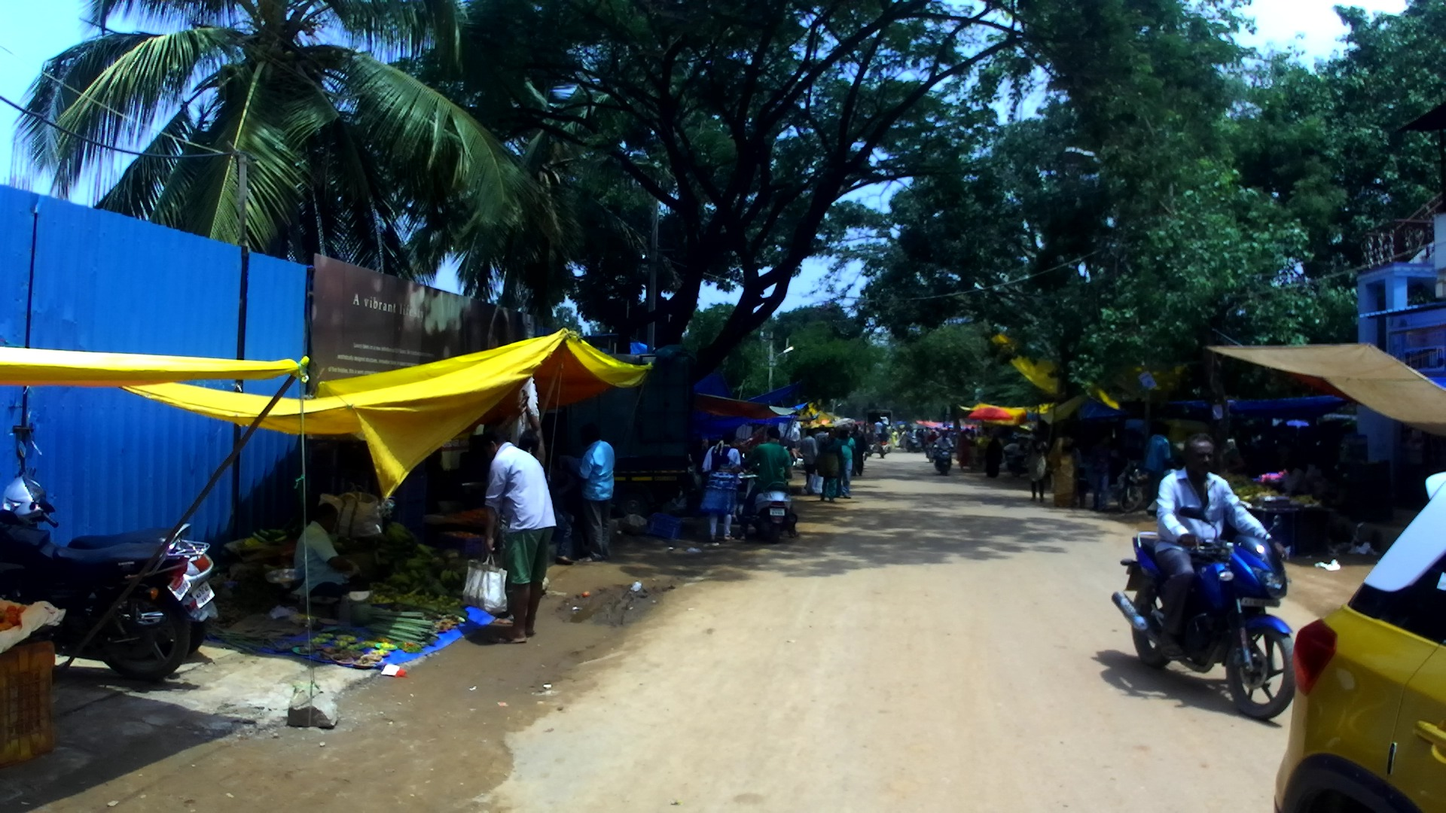autorickshaw: (1156, 419, 1210, 473)
car: (1272, 468, 1446, 813)
motorcycle: (1, 443, 218, 649), (1112, 507, 1296, 721), (1, 525, 209, 679), (742, 453, 798, 544), (1116, 458, 1145, 513), (935, 445, 955, 474), (905, 434, 920, 452), (925, 441, 937, 463), (867, 436, 879, 457), (878, 440, 889, 457)
person: (484, 428, 556, 646), (290, 505, 365, 605), (565, 428, 617, 565), (700, 437, 740, 542), (548, 463, 578, 567), (517, 390, 547, 486), (1048, 427, 1080, 510), (1089, 430, 1115, 515), (1148, 424, 1172, 515), (1025, 431, 1050, 502), (819, 427, 842, 501), (838, 431, 855, 499), (850, 425, 871, 476), (983, 435, 1003, 480), (1282, 461, 1306, 495), (801, 433, 817, 483), (957, 430, 974, 469), (816, 424, 831, 457), (897, 428, 908, 451), (922, 427, 930, 451), (892, 429, 899, 447)
rider: (1157, 434, 1289, 662), (740, 426, 797, 538), (933, 431, 952, 453), (865, 428, 879, 452), (878, 410, 890, 434), (905, 428, 918, 450), (874, 422, 883, 442), (878, 428, 888, 444), (927, 432, 938, 443)
truck: (538, 334, 693, 516), (866, 410, 894, 449)
vehicle fallback: (905, 431, 925, 451), (1008, 457, 1029, 474)
